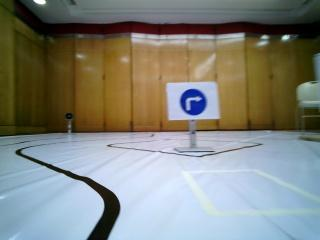right: (170, 85, 216, 117)
